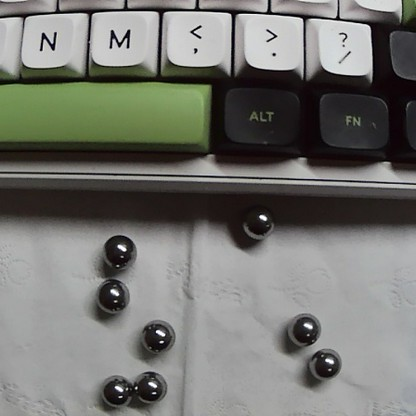ironball: (95, 221, 138, 271), (125, 319, 182, 351), (90, 279, 142, 314), (283, 299, 321, 346), (308, 344, 349, 387), (100, 366, 132, 409), (130, 368, 167, 404), (243, 210, 279, 238)
